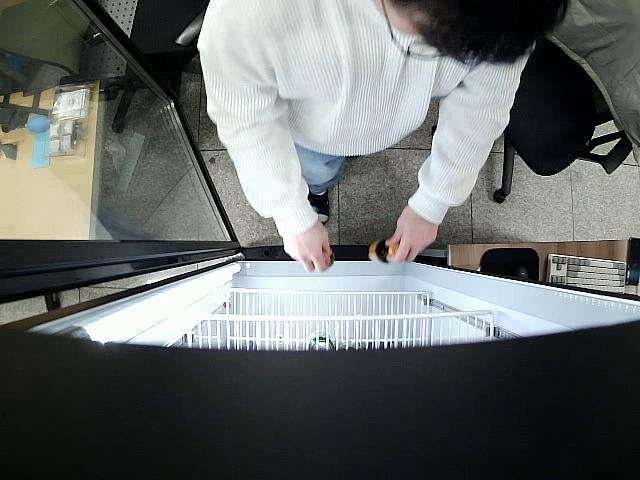00_hand: (386, 214, 439, 265), (283, 219, 332, 273)
17_vita500: (367, 239, 403, 264), (324, 248, 336, 268)
